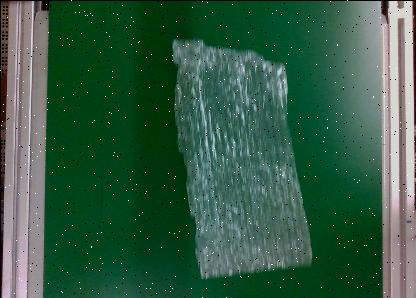Others: (172, 36, 314, 278)
